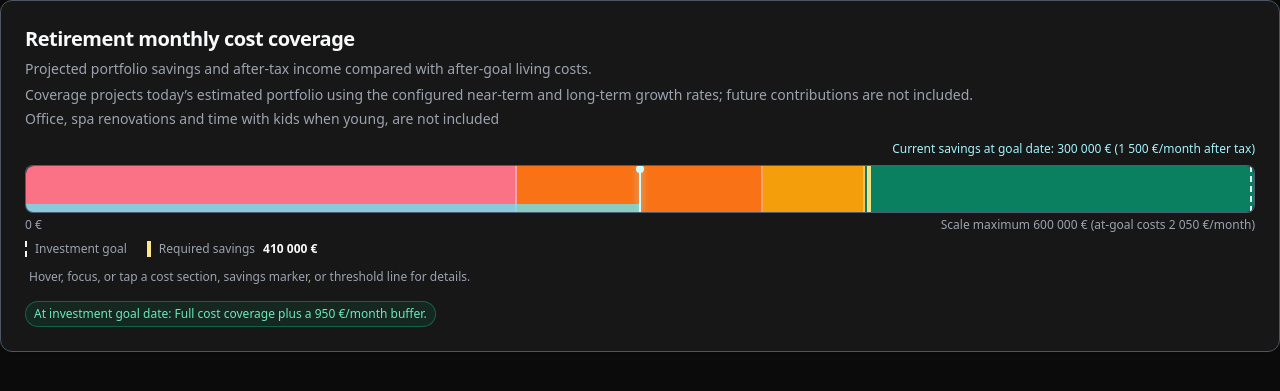
Scenario: RetirementCoverageChart › uses the requested year-based terminology in the current-savings tooltip
The image size is (1280, 391).
Click the button with test id "coverage-marker-future": {"x": 640, "y": 189} [618,166,662,212]
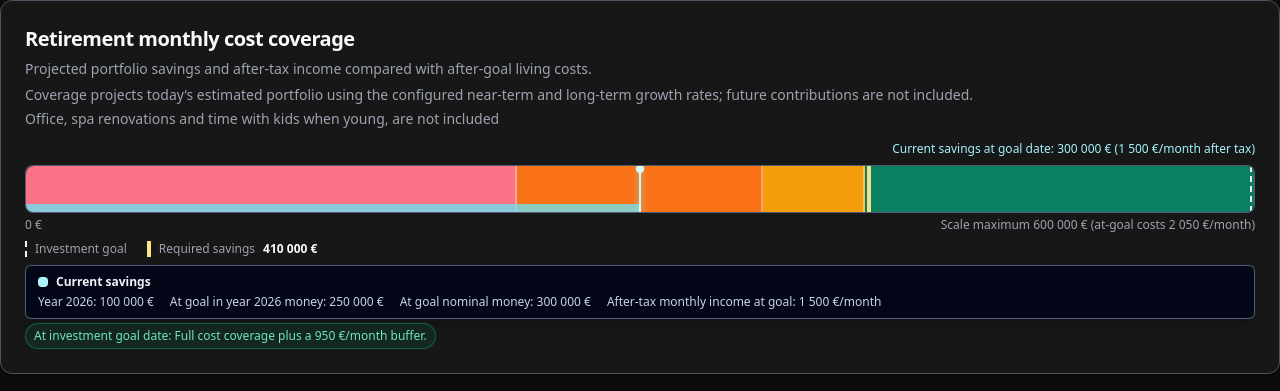
Result: the tooltip shows "Current savings" at [56,273,151,290]
Result: the tooltip shows "Year 2026: 100 000 €" at [38,293,154,310]
Result: the tooltip shows "At goal in year 2026 money: 250 000 €" at [170,293,384,310]
